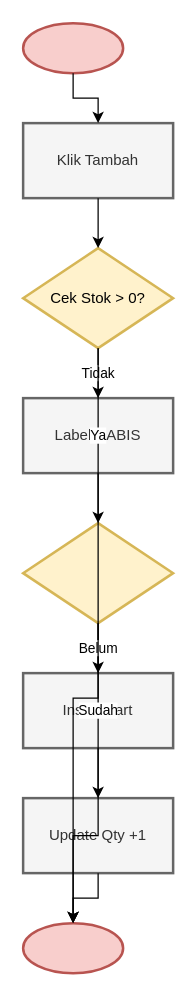
Some shapes in this 195 by 995 pixel diagram are drawn without their labels. The shapes that lost their labels are listed below. From the top down, each one's centre as x and y in pixels, then its label:
point 72,47: Mulai
point 97,572: Cek di Keranjang?
point 72,947: Selesai
